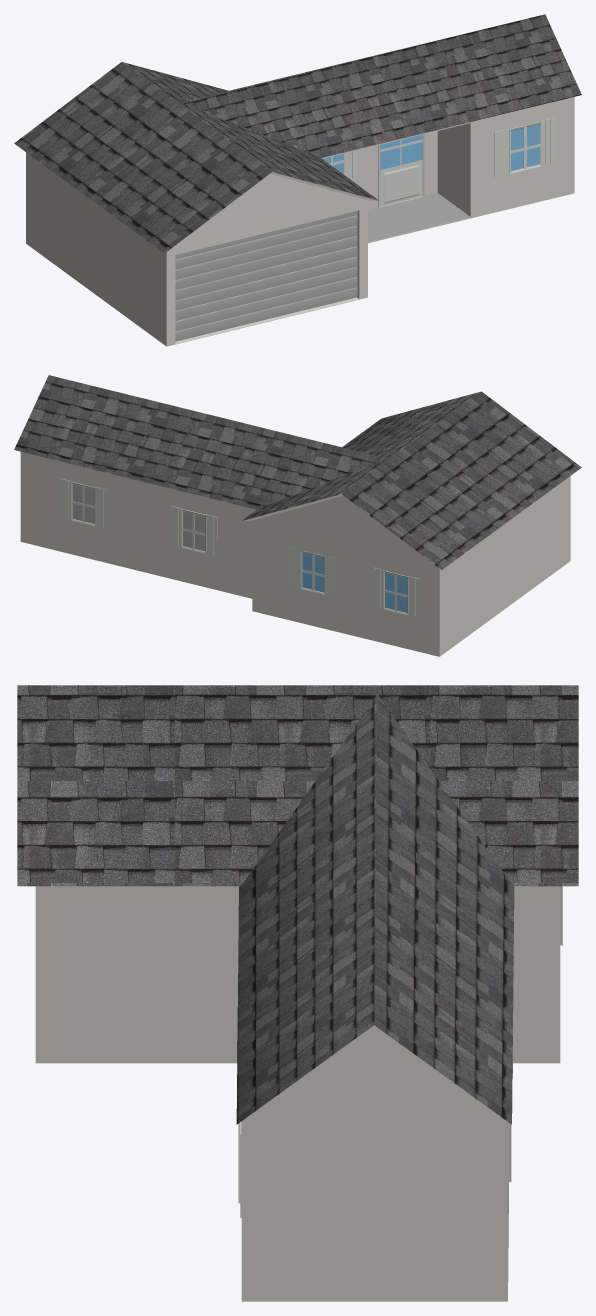
Rendered from suburbanHouse.fbx.
The picture shows the model from 3 angles, top to bottom: view 1: azimuth 30°, elevation 25°; view 2: azimuth 150°, elevation 25°; view 3: azimuth 270°, elevation 25°; orthographic projection. The views are drawn at different scales.
Parts seen in each view (by area): view 1: pCube32; view 2: pCube32; view 3: pCube32.
Part boxes in pixels (x1=…): pCube32: x1=14, y1=14, x2=581, y2=346; pCube32: x1=14, y1=375, x2=581, y2=656; pCube32: x1=17, y1=685, x2=578, y2=1301.
Bounding box in the file's own units: 12.67 × 3.91 × 6.93.
7 materials, 1 textured.
